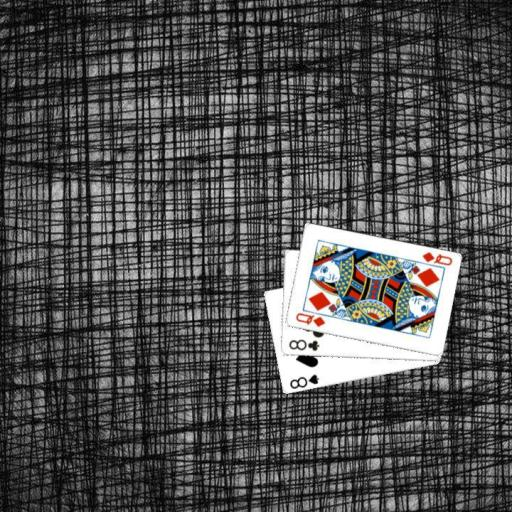8C: (285, 336, 321, 353)
8S: (287, 372, 321, 390)
QD: (293, 310, 327, 329), (419, 249, 453, 267)
